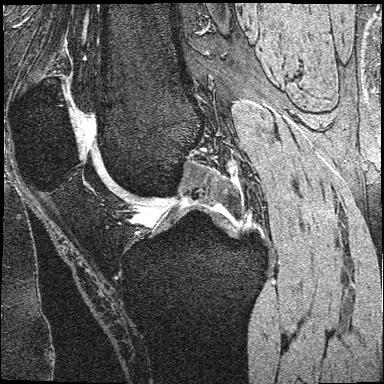SagKneeJointArea: (7, 75, 270, 307)
